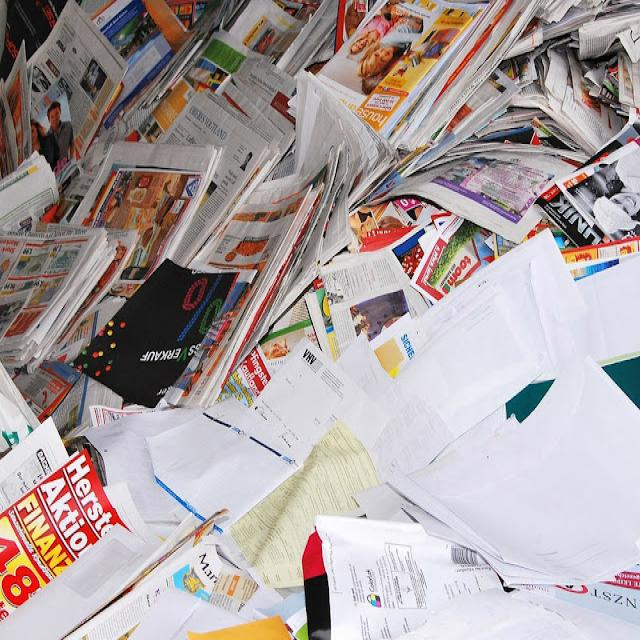Kertas: (43, 50, 620, 629)
